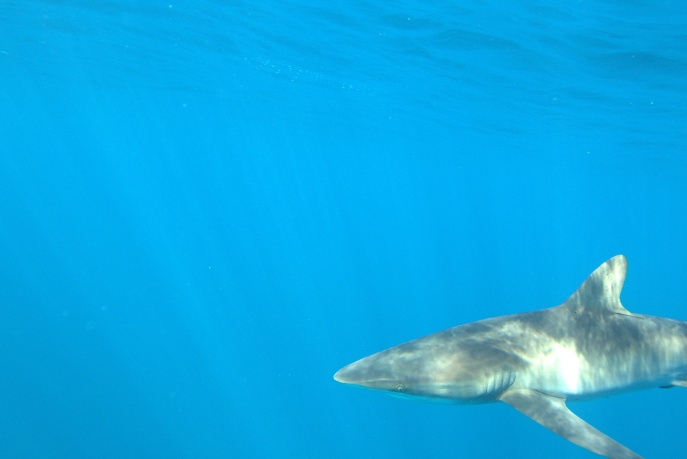Sedoso: (334, 252, 687, 457)
